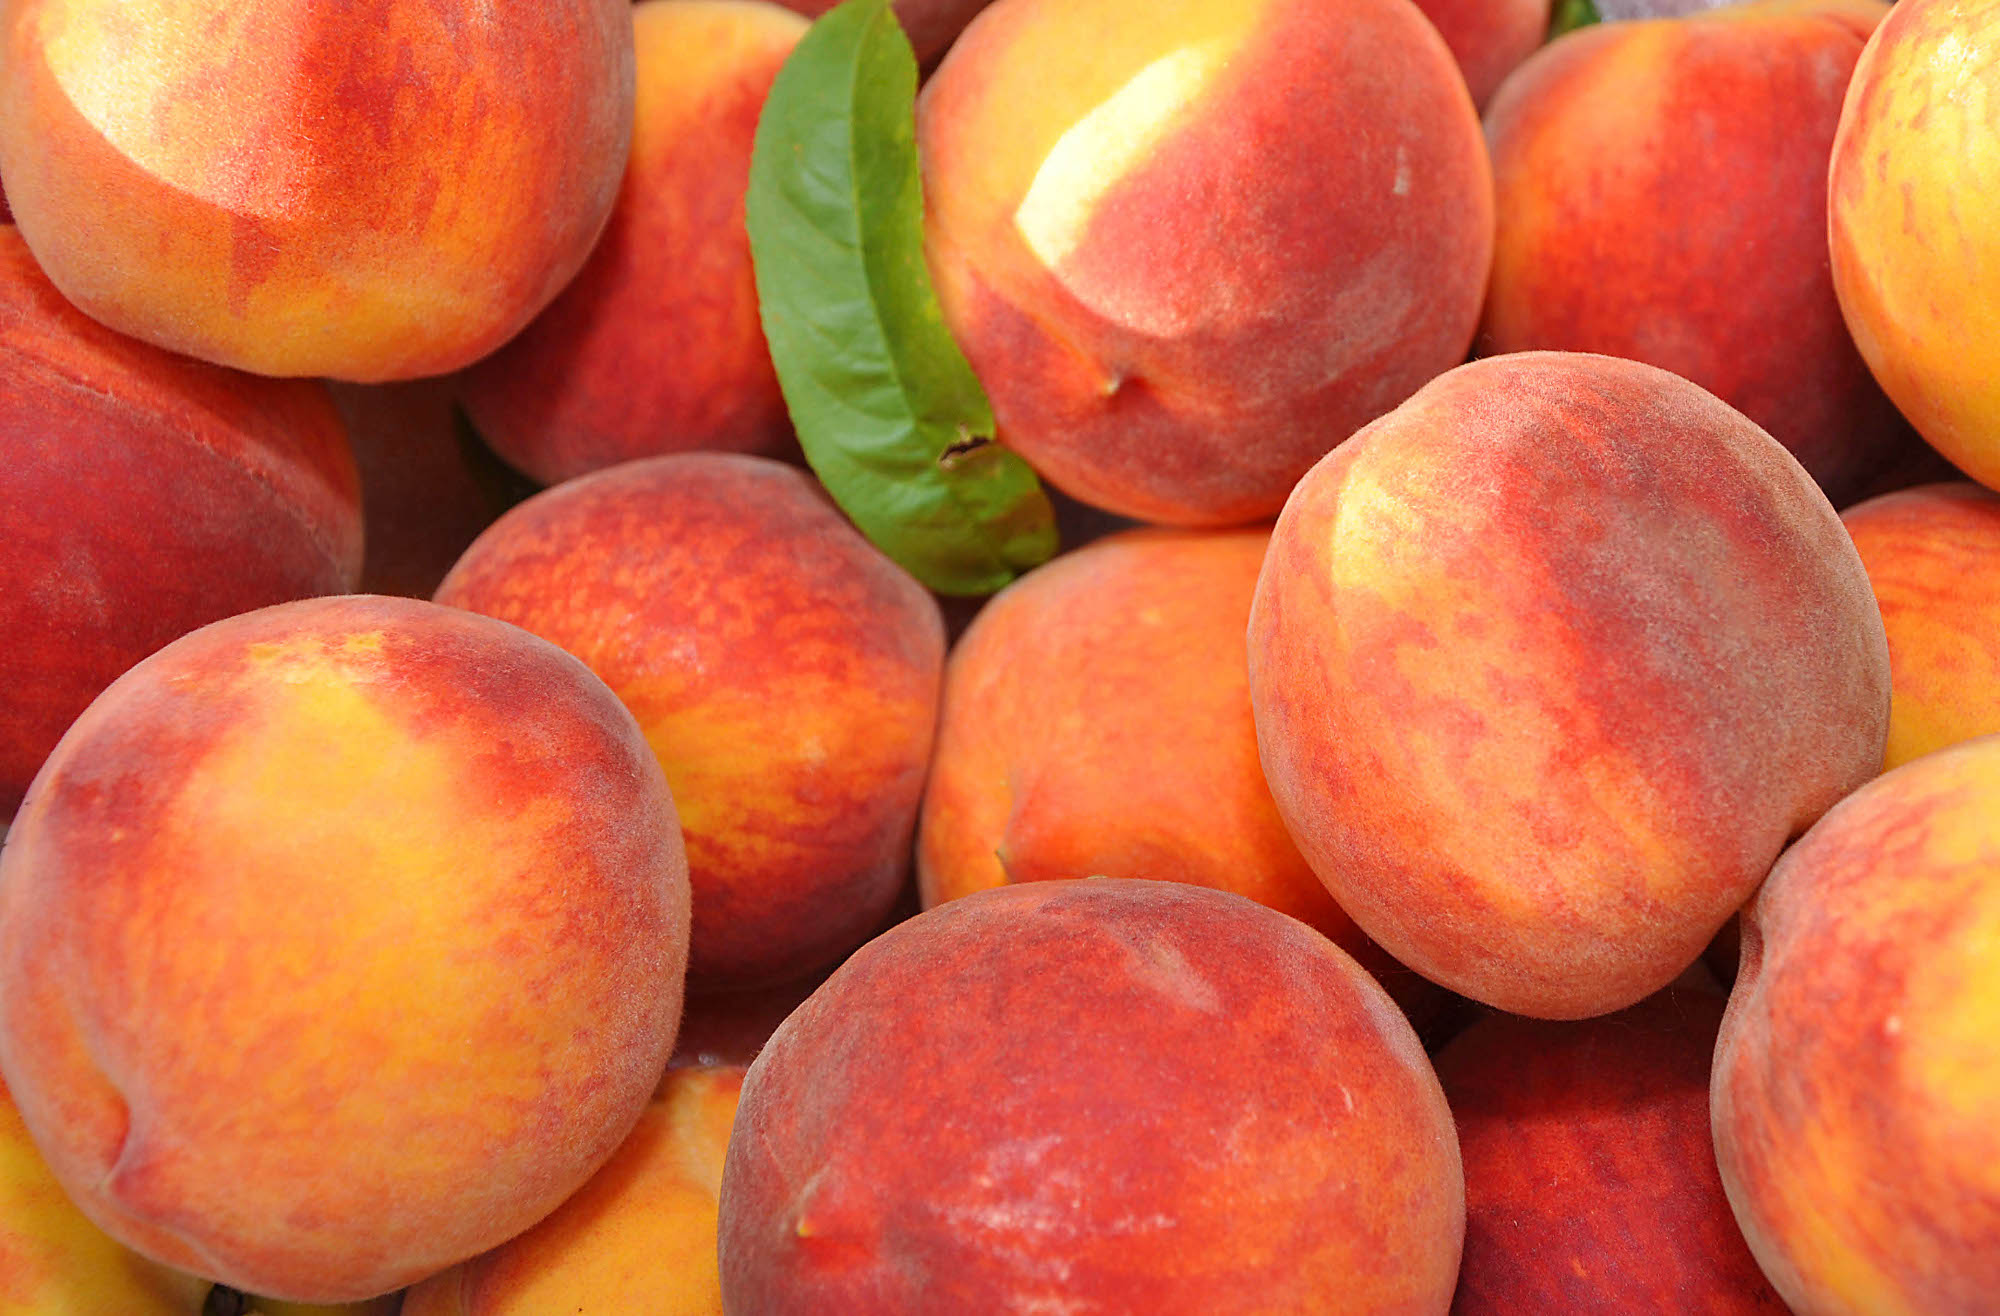peach: (18, 595, 659, 1281), (1267, 342, 1816, 972), (733, 900, 1417, 1316), (907, 3, 1482, 454), (1, 7, 557, 369), (490, 476, 932, 903), (950, 516, 1341, 930), (1485, 37, 1852, 422), (1755, 778, 1971, 1316), (1, 380, 401, 652), (1419, 997, 1753, 1316)
